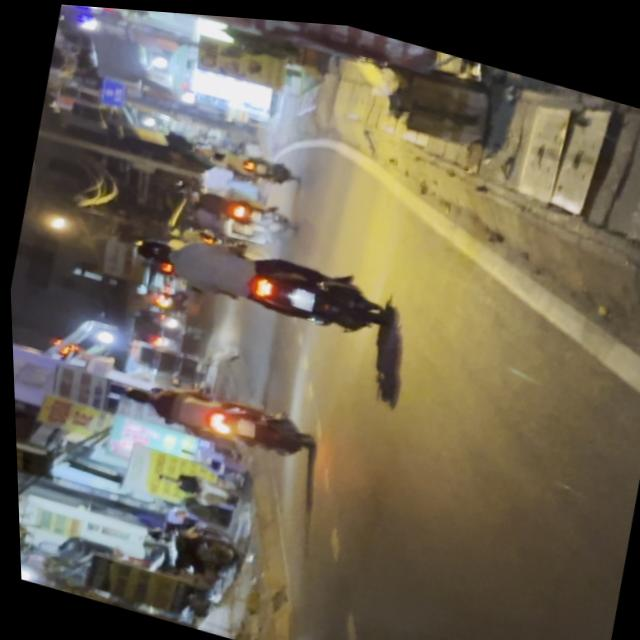helmet: (129, 232, 175, 266)
licenseplate: (121, 202, 389, 350)
nohelmet: (284, 281, 313, 307)
